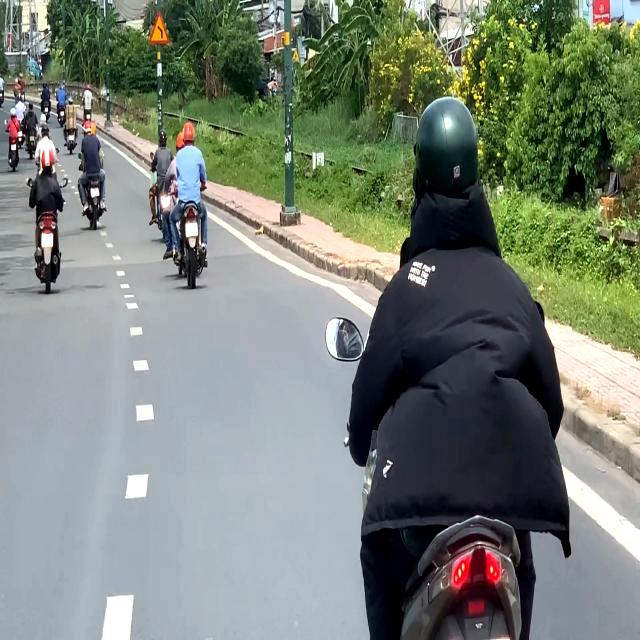cho ngoat nguy hiem vong ben trai: (150, 12, 170, 44)
